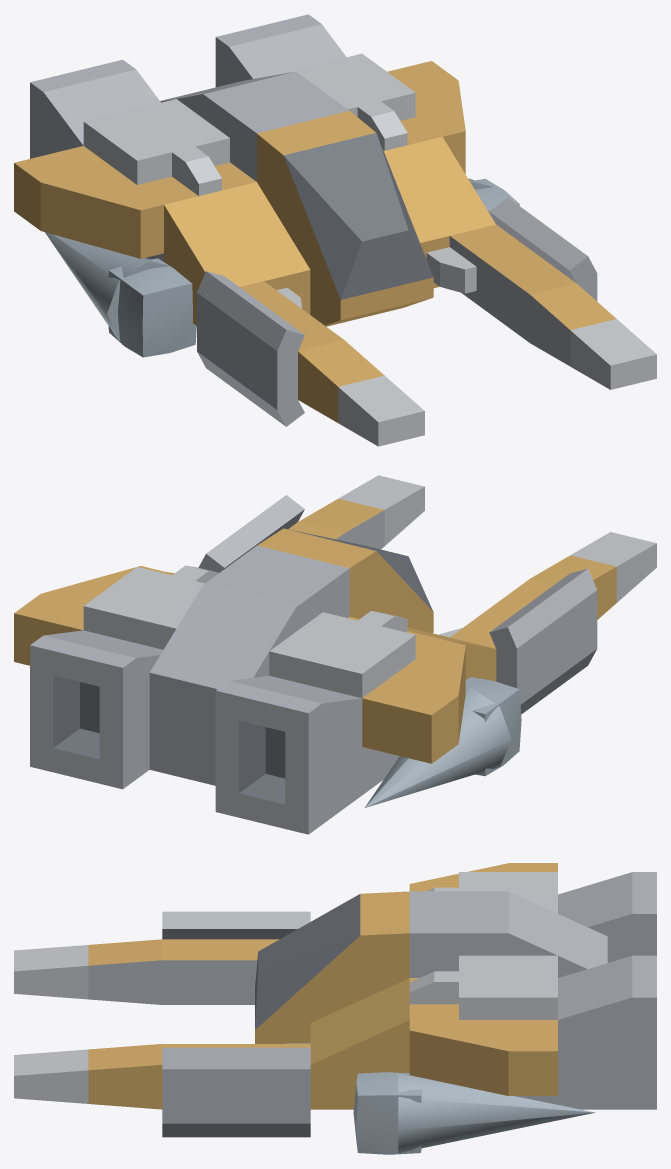
Rendered from npc_miner.glb.
3 views of the same model, one above another, from view 1: azimuth 30°, elevation 25°; view 2: azimuth 150°, elevation 25°; view 3: azimuth 270°, elevation 25° (orthographic). The views are drawn at different scales.
Visible parts, largest first — view 1: npc_miner; view 2: npc_miner; view 3: npc_miner.
Part boxes in pixels (x1=…): npc_miner: x1=14, y1=14, x2=656, y2=446; npc_miner: x1=14, y1=475, x2=656, y2=834; npc_miner: x1=14, y1=863, x2=656, y2=1154.
Size of the model in its own units: 1.24 by 0.5108 by 1.79.
